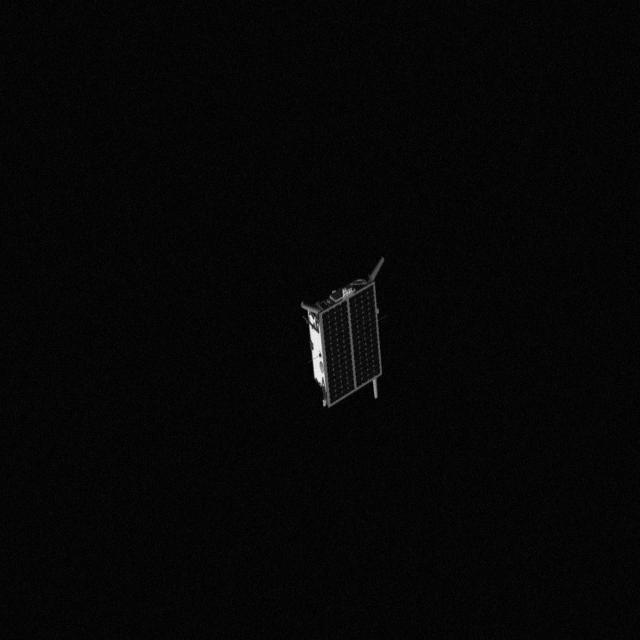medium_debris: (300, 260, 400, 416)
